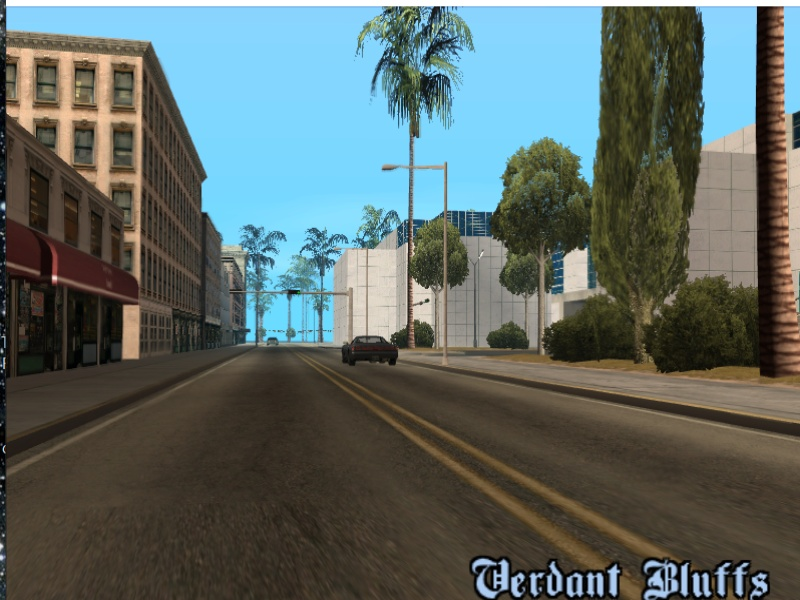pole: (440, 165, 454, 368), (348, 292, 356, 343)
tree: (752, 14, 800, 387), (406, 142, 420, 355), (535, 256, 551, 355)
vehicle: (338, 336, 401, 369), (264, 336, 280, 349)
